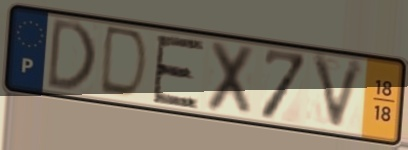7: (260, 47, 309, 123)
D: (96, 23, 152, 103), (44, 15, 98, 92)
E: (149, 34, 208, 111)
V: (308, 51, 369, 135)
X: (203, 38, 258, 120)
